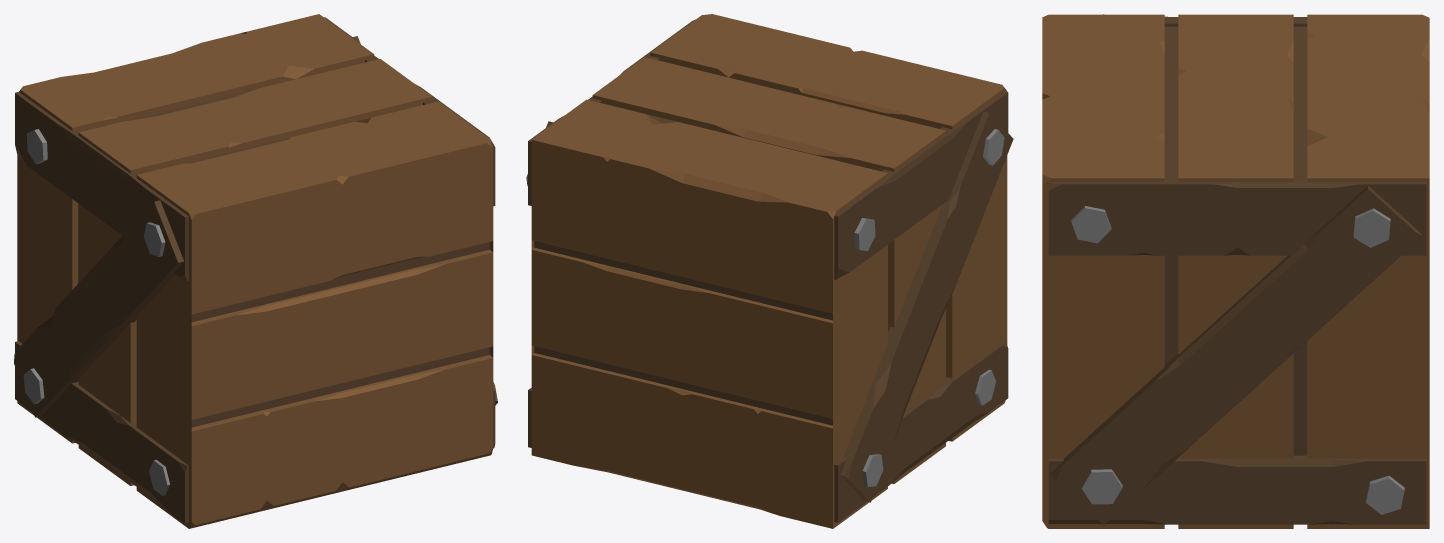
The picture shows the model from 3 angles, left to right: view 1: azimuth 30°, elevation 25°; view 2: azimuth 150°, elevation 25°; view 3: azimuth 270°, elevation 25°; orthographic projection. The views are drawn at different scales.
Parts seen in each view (by area): view 1: Box, Screws; view 2: Box, Screws; view 3: Box, Screws.
Part boxes in pixels (x1,y1,x2,y2): Box: [14, 14, 497, 528]; Screws: [23, 129, 170, 495]; Box: [526, 14, 1013, 528]; Screws: [854, 129, 1004, 486]; Box: [1042, 14, 1429, 528]; Screws: [1071, 206, 1404, 514].
Size of the model in its own units: 51.36 by 46.83 by 46.83.
